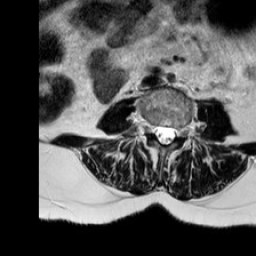CCS_normal: (161, 113, 168, 153)
LFS_normal: (176, 115, 185, 145)
LLS_normal: (168, 118, 177, 148)
RFS_normal: (145, 111, 153, 141)
RLS_normal: (153, 115, 161, 144)
